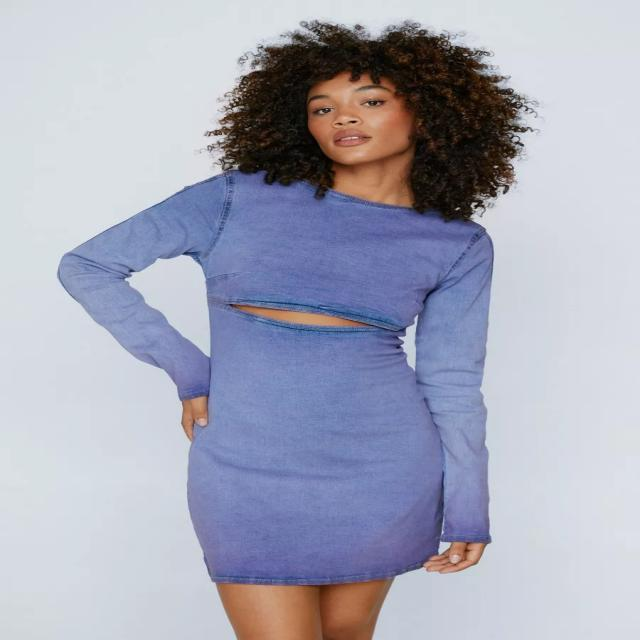clothes: (148, 168, 490, 591)
